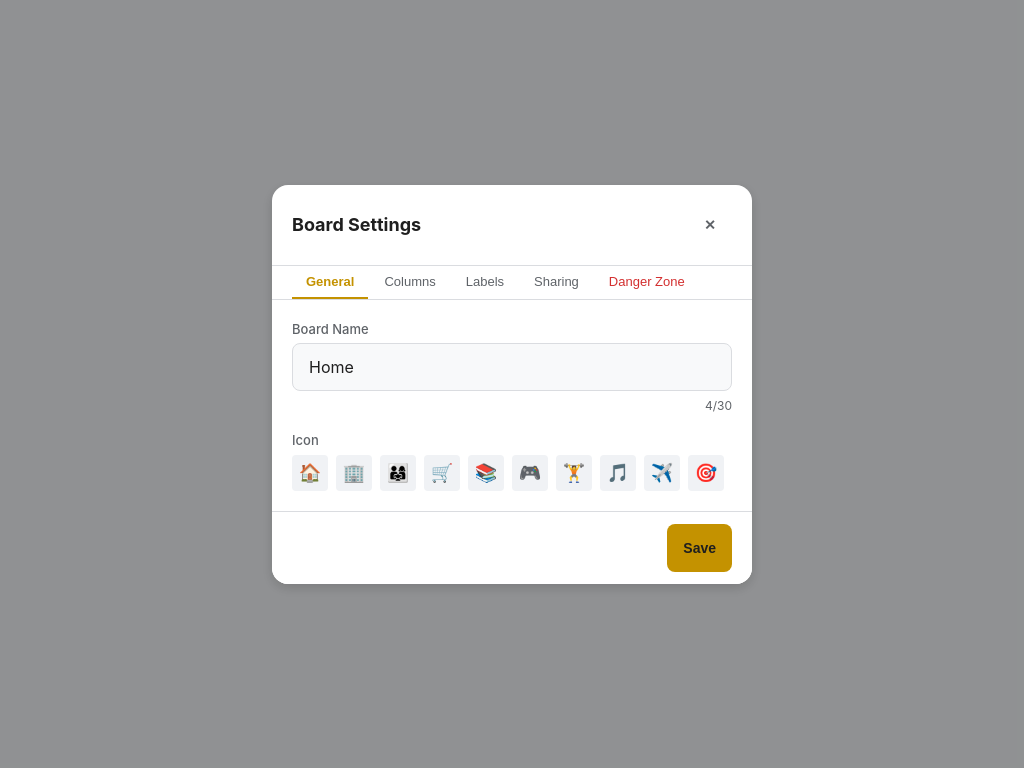
Test: AC1: Danger Zone › is disabled on the last active board
The image size is (1024, 768).
Click the tab "Danger Zone" at [647, 282], box x1=595 y1=266 x2=699 y2=298
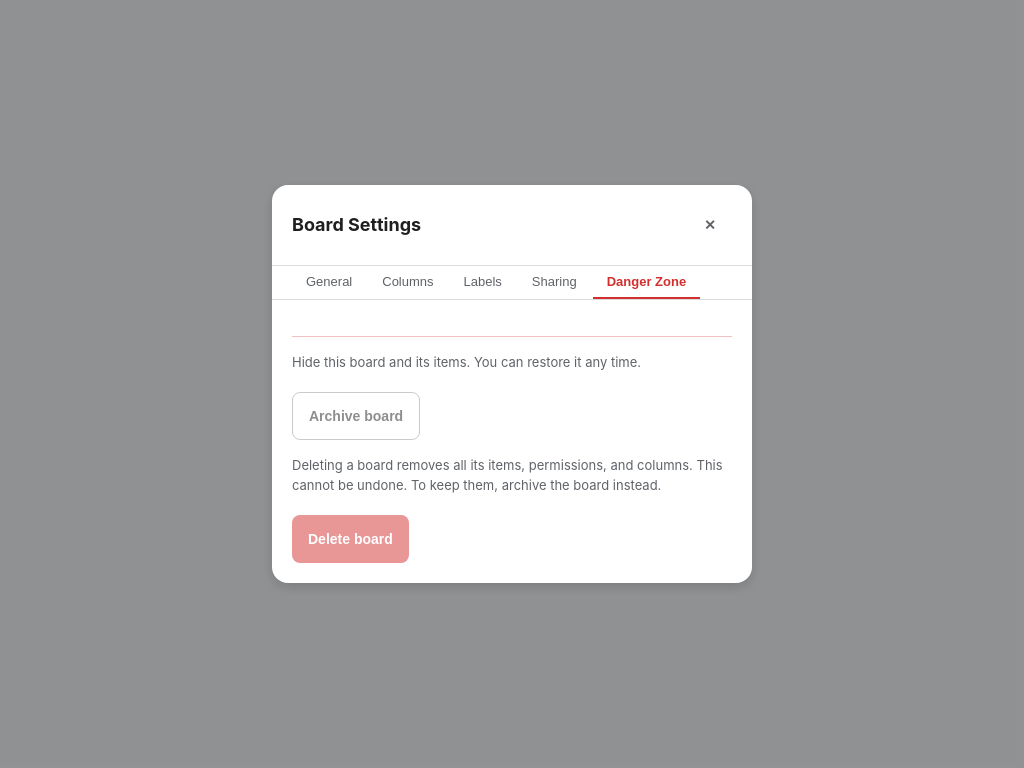
Now the button with test id "archive-board-btn" is disabled, box x1=292 y1=392 x2=420 y2=440
